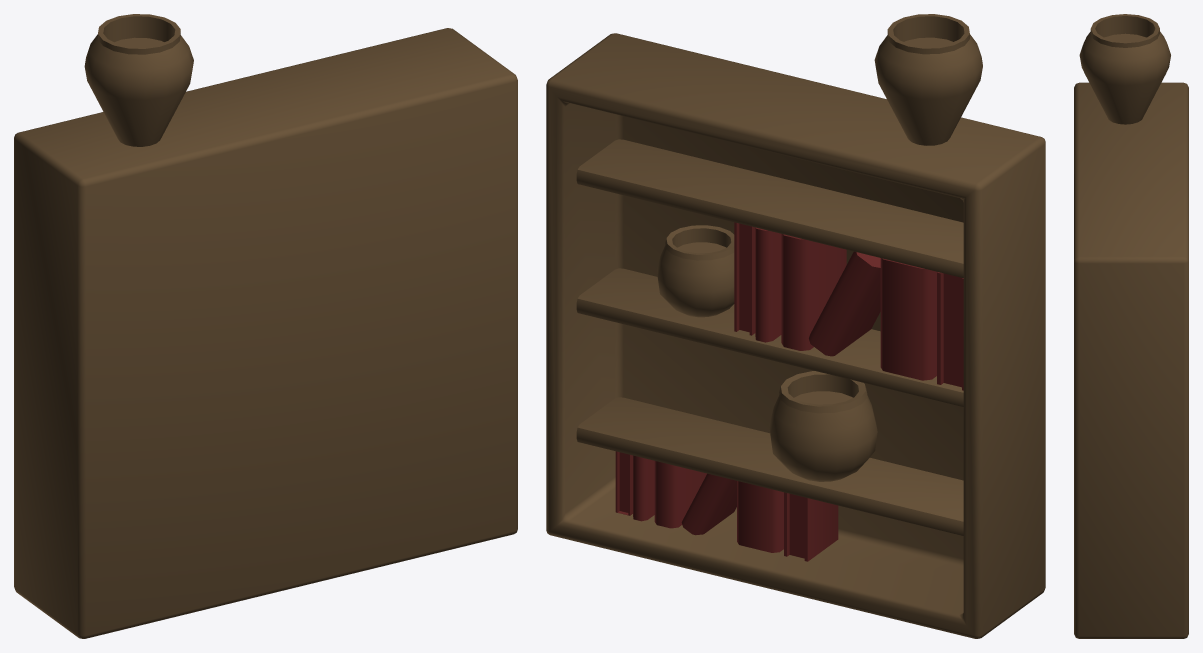
File: Library.fbx
3 views of the same model, side by side, from view 1: azimuth 30°, elevation 25°; view 2: azimuth 150°, elevation 25°; view 3: azimuth 270°, elevation 25° (orthographic). The views are drawn at different scales.
Visible parts, largest first — view 1: Cube.045, Cylinder.032; view 2: Cube.045, Cube.056, Cylinder.032, Cylinder.035, Cube.076, Cylinder.036, Cube.074, Cube.077, Cube.103, Cube.075, Cube.104, Cube.078 (+5 smaller); view 3: Cube.045, Cylinder.032.
Boxes of the visible parts, bbox=[...] form: Cube.045: bbox=[14, 28, 517, 638]; Cylinder.032: bbox=[84, 14, 193, 146]; Cube.045: bbox=[546, 33, 1045, 638]; Cube.056: bbox=[576, 139, 963, 535]; Cylinder.032: bbox=[874, 14, 982, 145]; Cylinder.035: bbox=[769, 371, 877, 481]; Cube.076: bbox=[880, 258, 937, 380]; Cylinder.036: bbox=[657, 225, 734, 317]; Cube.074: bbox=[781, 234, 846, 350]; Cube.077: bbox=[809, 251, 880, 356]; Cube.103: bbox=[784, 492, 838, 561]; Cube.075: bbox=[937, 272, 963, 390]; Cube.104: bbox=[737, 481, 783, 552]; Cube.078: bbox=[755, 227, 781, 342]; Cube.045: bbox=[1074, 82, 1188, 638]; Cylinder.032: bbox=[1079, 14, 1170, 124].
Size of the model in its own units: 1.61 by 1.98 by 0.4383.
